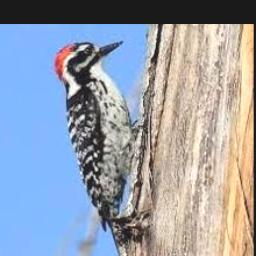Woodpecker: (54, 40, 138, 243)
